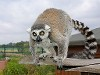cat: (24, 5, 99, 74)
